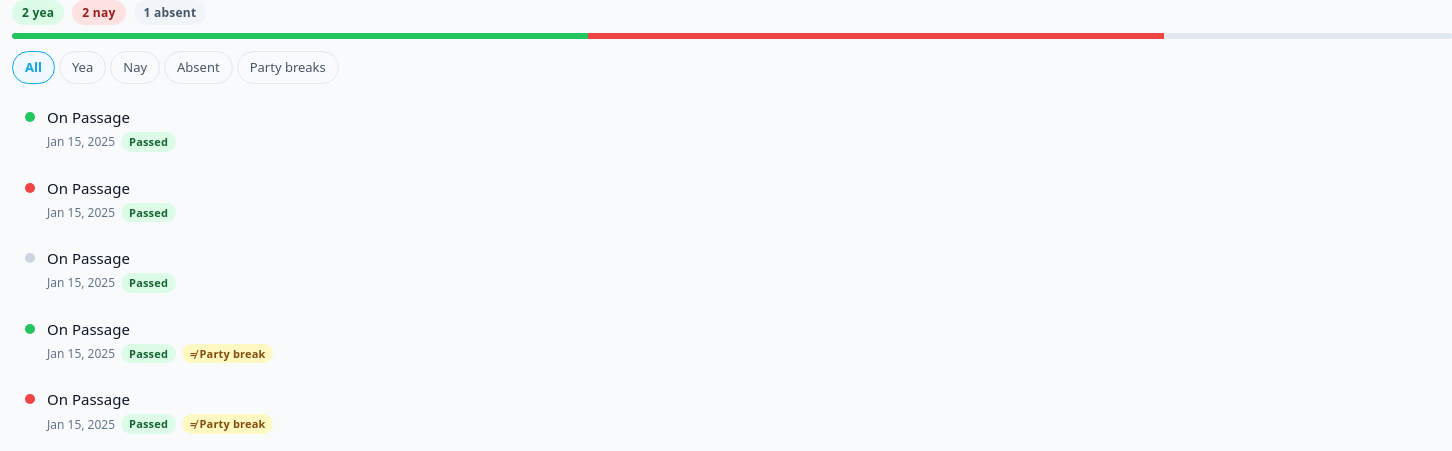
Test: VoteList — filter logic › shows only yea votes when the "Yea" filter is active
What coordinates should you click on to do the following:
click the tab "Yea"
I would click on:
 (83, 68)
Its box is 59,51 -> 106,84.
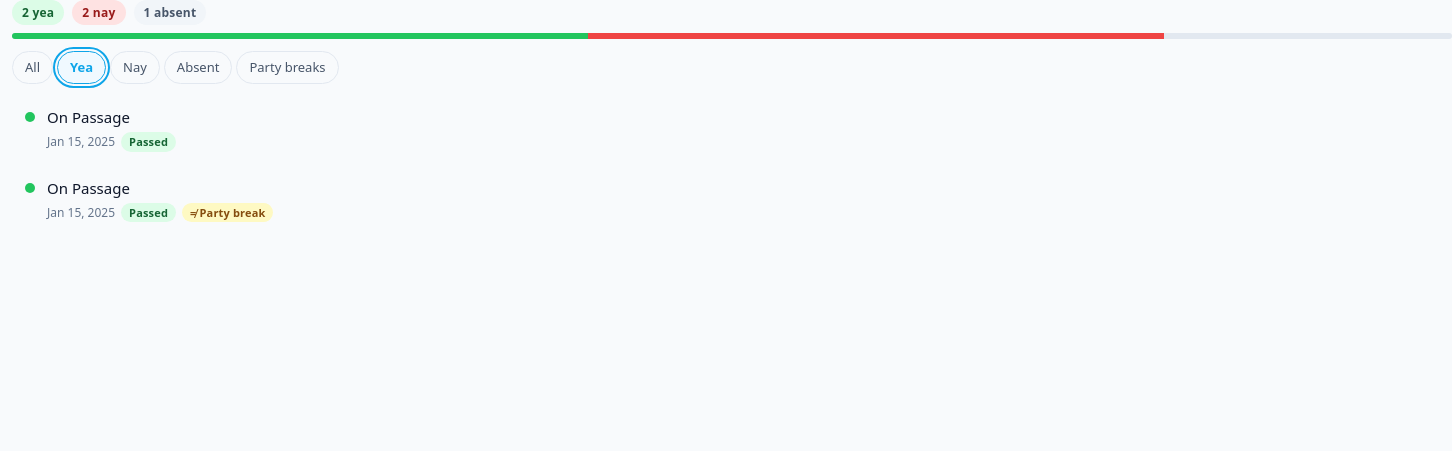
expect the number of list items is 2: met, box 25,107 -> 176,152; 25,178 -> 274,222
